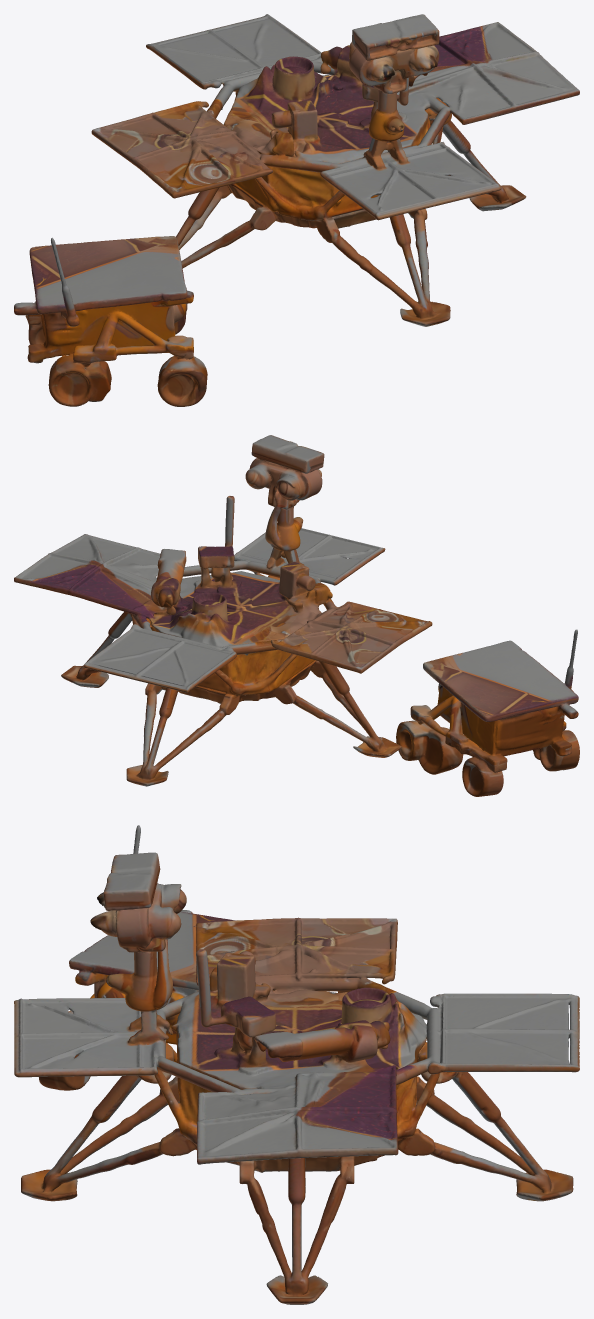
The model's file is mars-pathfinder-sojourner.glb.
3 renders of one model, top to bottom at view 1: azimuth 30°, elevation 25°; view 2: azimuth 150°, elevation 25°; view 3: azimuth 270°, elevation 25°, orthographic. The views are drawn at different scales.
Visible parts, largest first — view 1: tripo_node_93e1bb84-82d2-496b-887b-ec0ac08e1828; view 2: tripo_node_93e1bb84-82d2-496b-887b-ec0ac08e1828; view 3: tripo_node_93e1bb84-82d2-496b-887b-ec0ac08e1828.
Part boxes in pixels (box(x1,y1,x2,y2)): tripo_node_93e1bb84-82d2-496b-887b-ec0ac08e1828: box(14, 14, 579, 406); tripo_node_93e1bb84-82d2-496b-887b-ec0ac08e1828: box(14, 435, 579, 796); tripo_node_93e1bb84-82d2-496b-887b-ec0ac08e1828: box(14, 825, 579, 1304).
Size of the model in its own units: 1 by 0.4975 by 0.703.
1 material, 1 textured.
